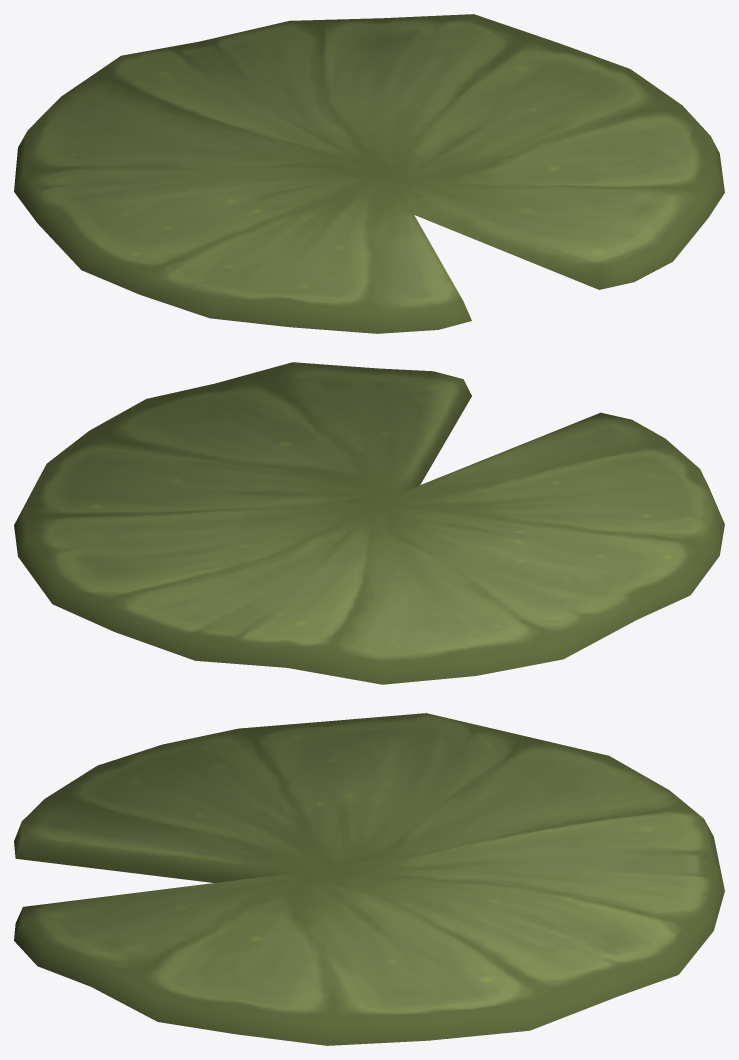
Rendered from SM_Water_lily_leaf.FBX.
The picture shows the model from 3 angles, top to bottom: view 1: azimuth 30°, elevation 25°; view 2: azimuth 150°, elevation 25°; view 3: azimuth 270°, elevation 25°; orthographic projection. The views are drawn at different scales.
Parts seen in each view (by area): view 1: Water lily leaf; view 2: Water lily leaf; view 3: Water lily leaf.
Boxes of the visible parts, x1,y1,x2,y2 form: Water lily leaf: (14,14,724,333); Water lily leaf: (14,362,724,684); Water lily leaf: (14,713,724,1045).
Size of the model in its own units: 74.97 by 3.34 by 72.74.
